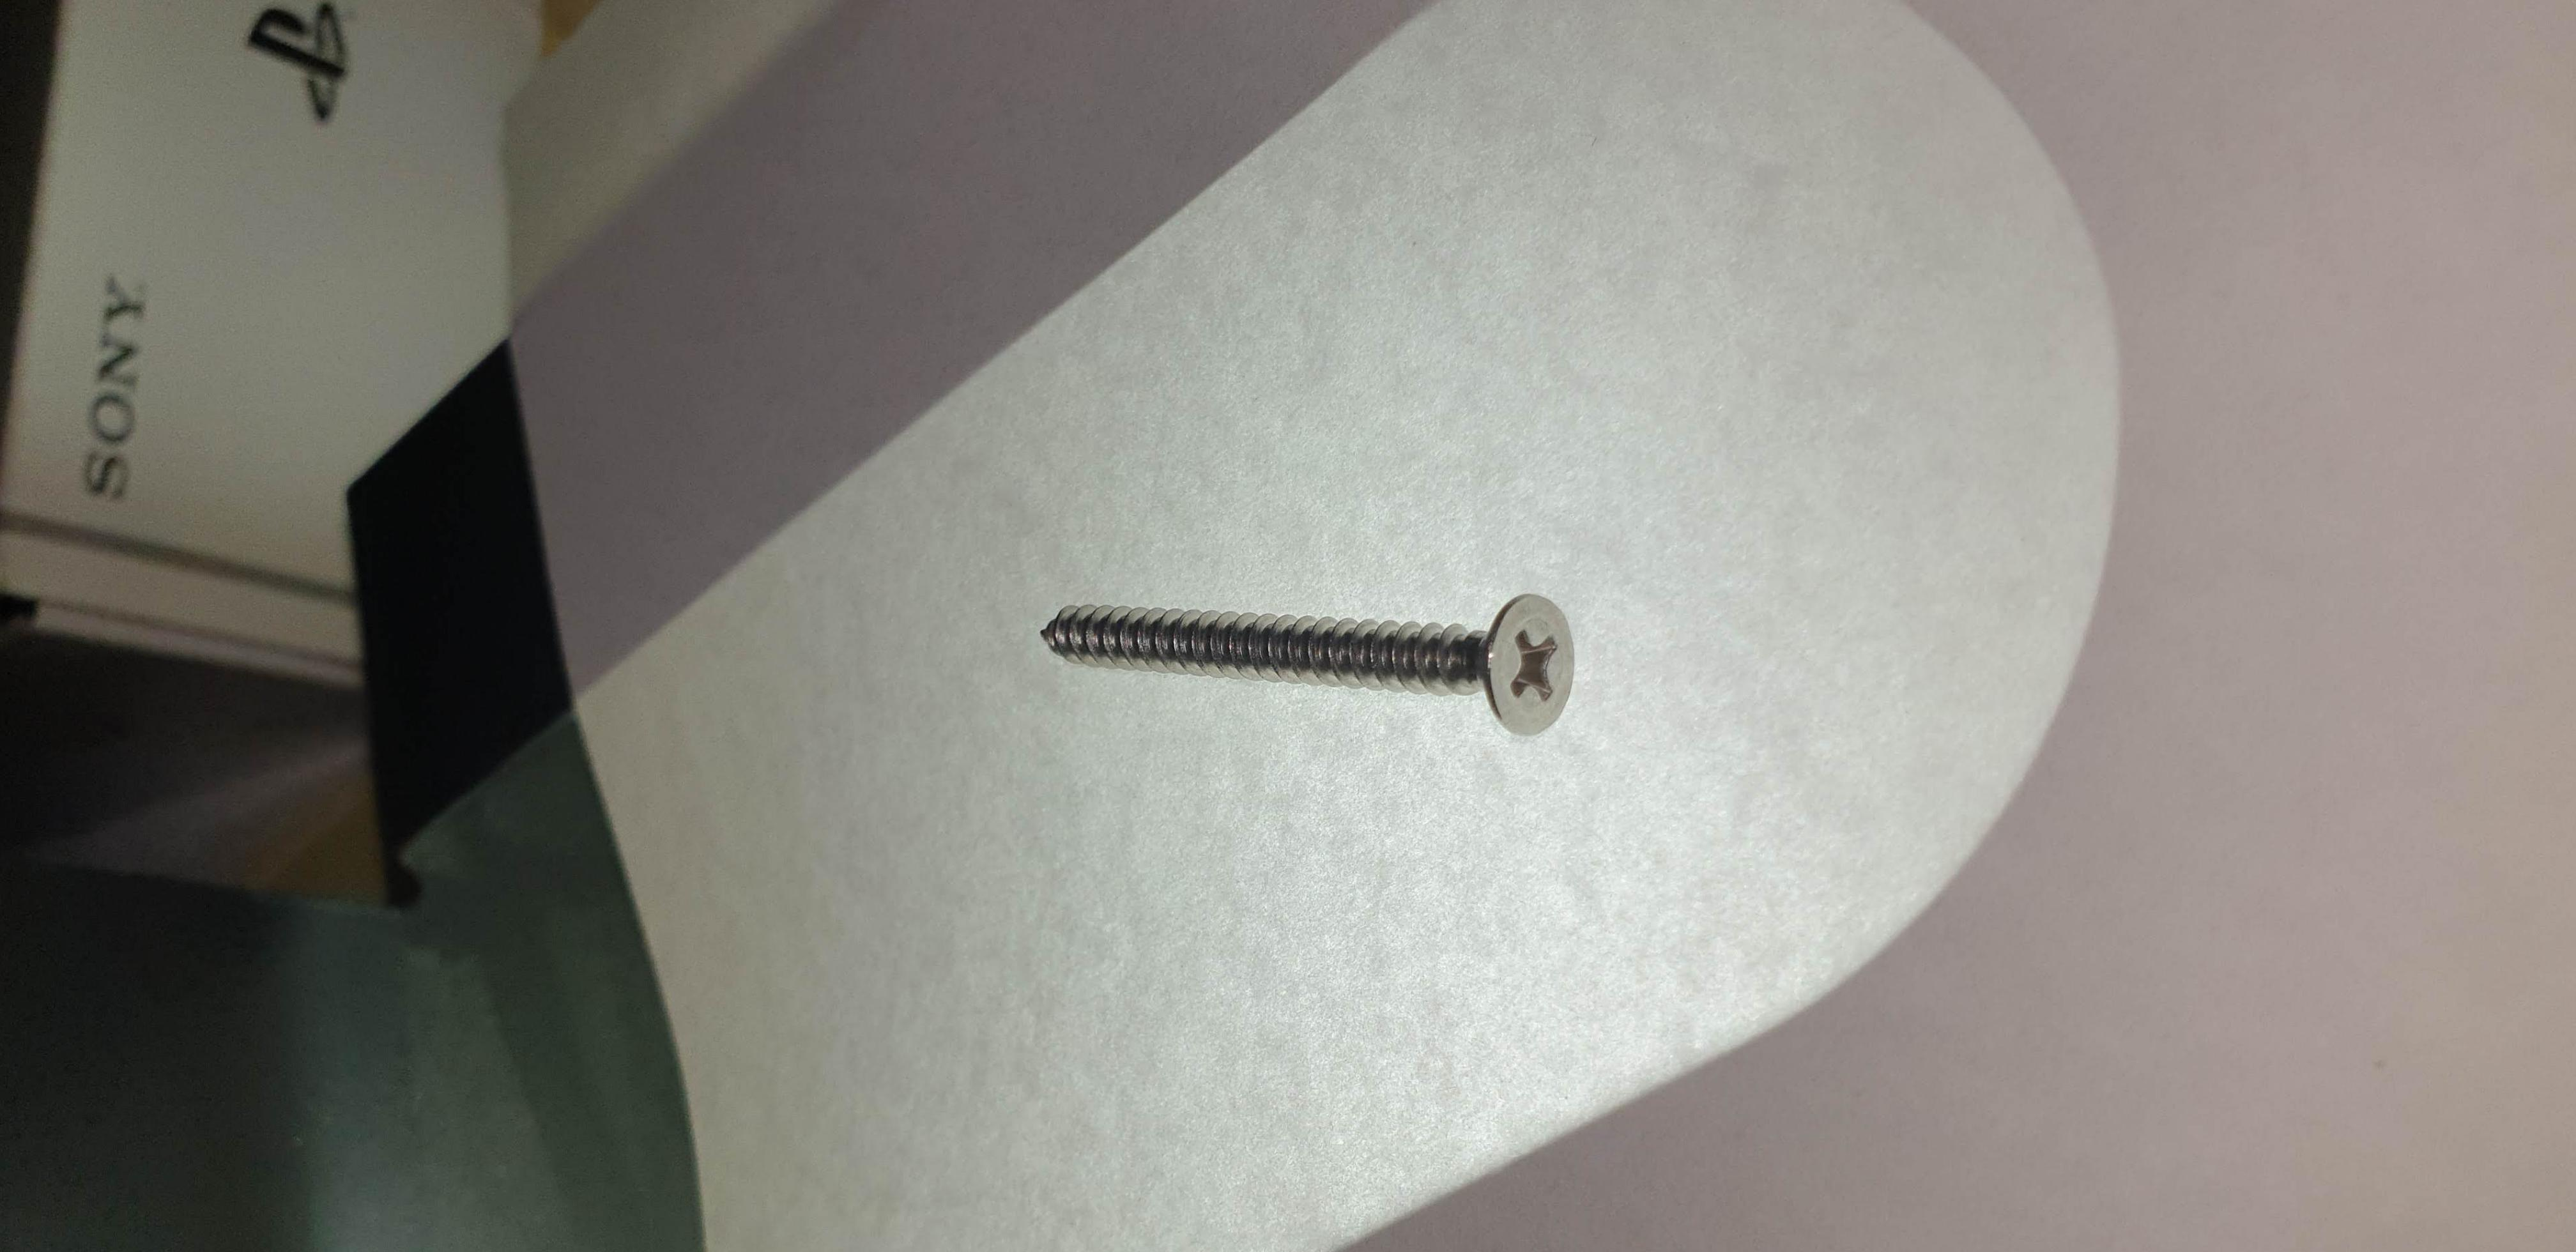fastener: (987, 542, 1666, 777)
